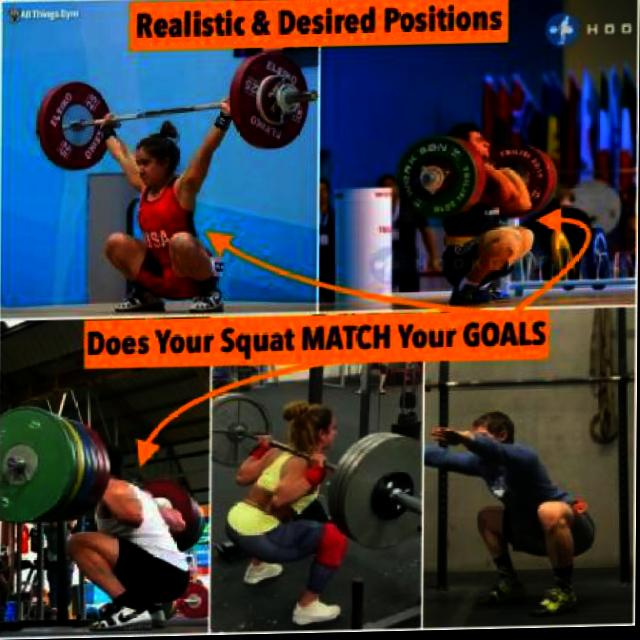barbell: (4, 403, 85, 528), (235, 53, 319, 154), (394, 132, 480, 225)
